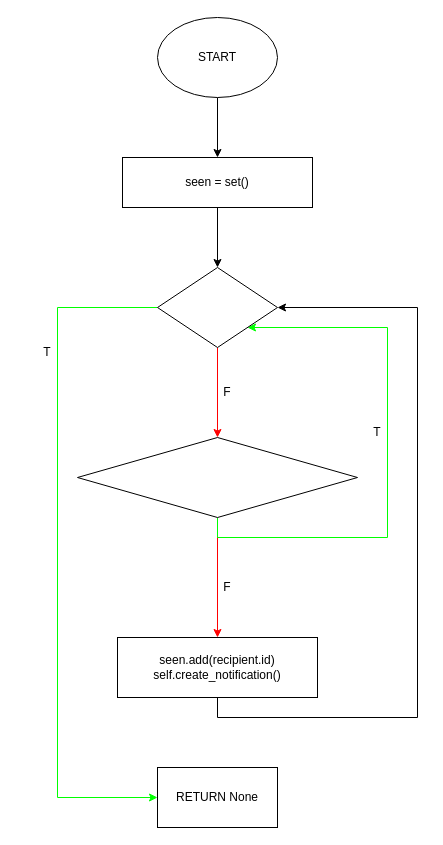
The diagram is 443 pixels wide and 845 high, and some of its shapes have lost their labels. The shapes that lost their labels are listed below. From the top down, each one's centre as x and y in pixels, then its label:
At pixel 217 307: "recipients ended".
At pixel 217 477: "recipient is None or recipient.id in seen".
